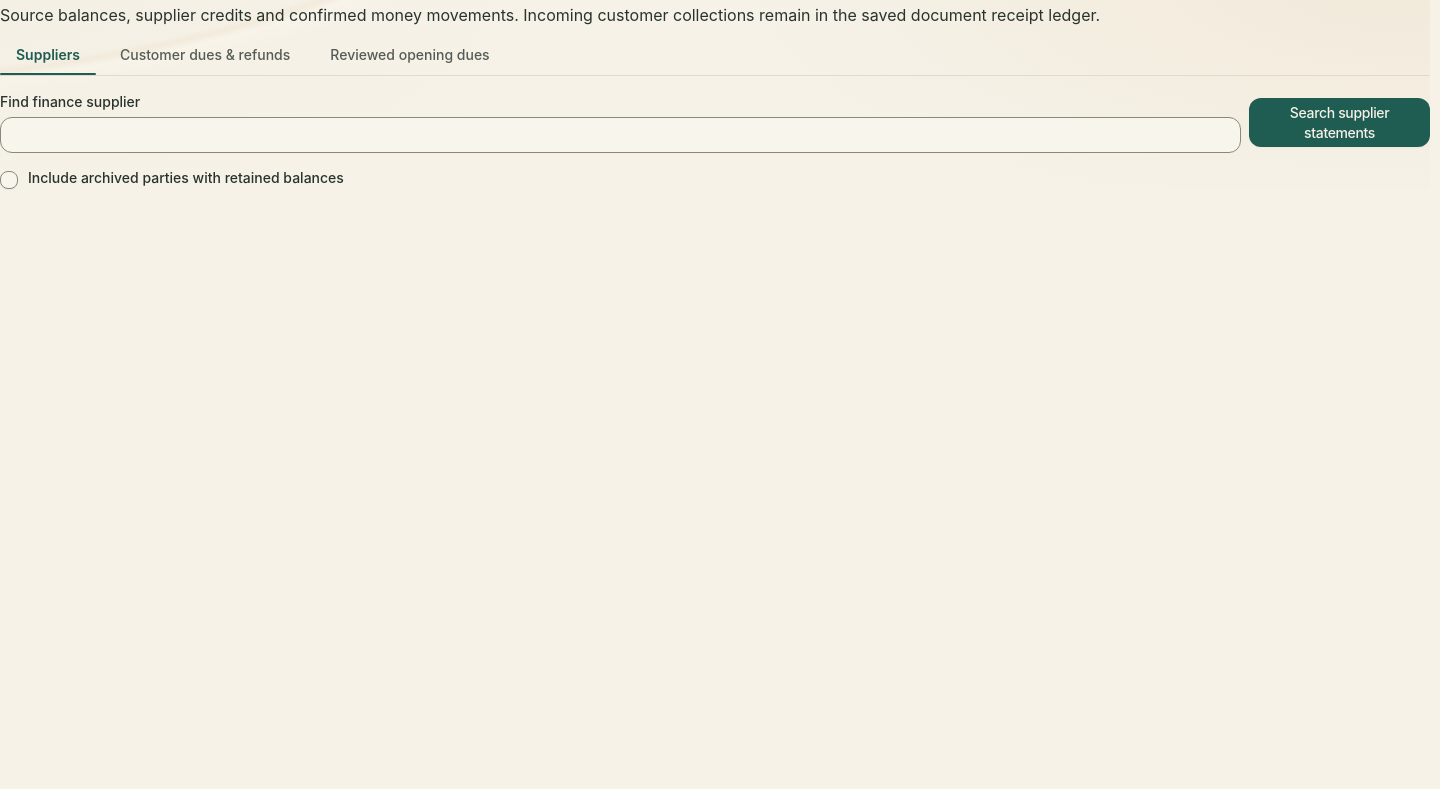
Test: keeps readonly finance accessible without payout authority
Step 1. Click the button "Search supplier statements" → (1340, 123), box [1249,98,1430,147]
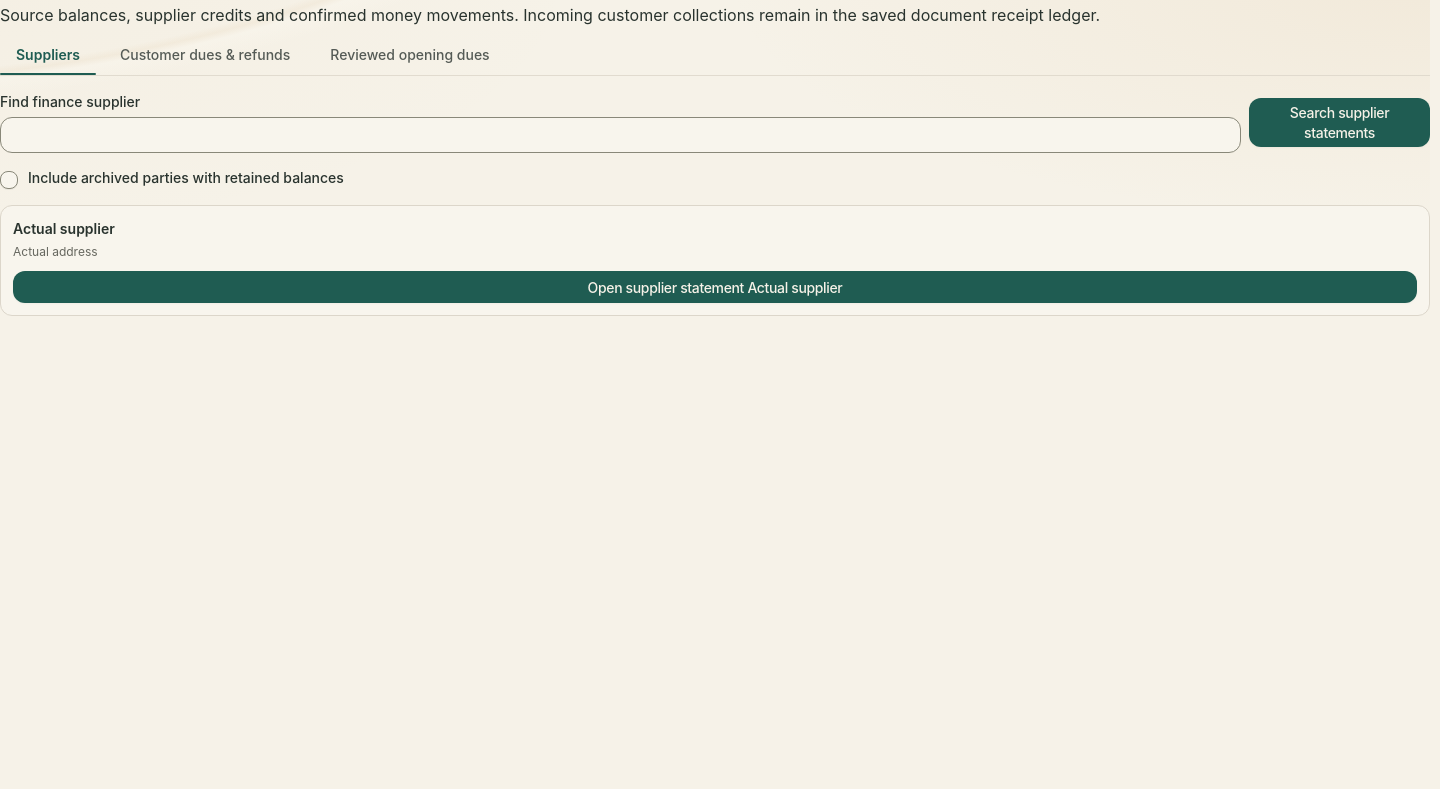
Step 2. Click the button "Open supplier statement Actual supplier" → (715, 287), box [13,271,1417,303]
(page scrolled)
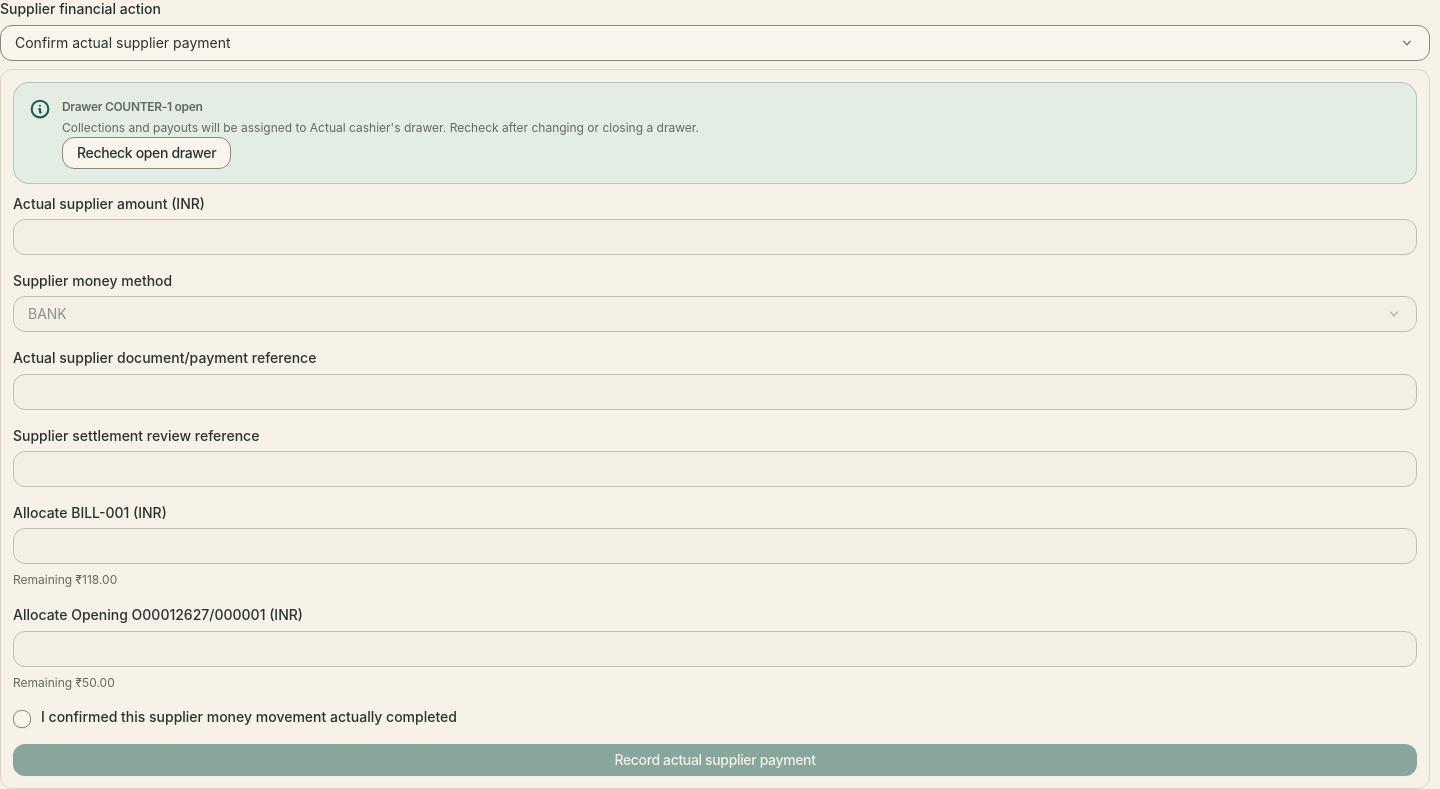
Result: the button "Record actual supplier payment" is disabled at [13,744,1417,776]
